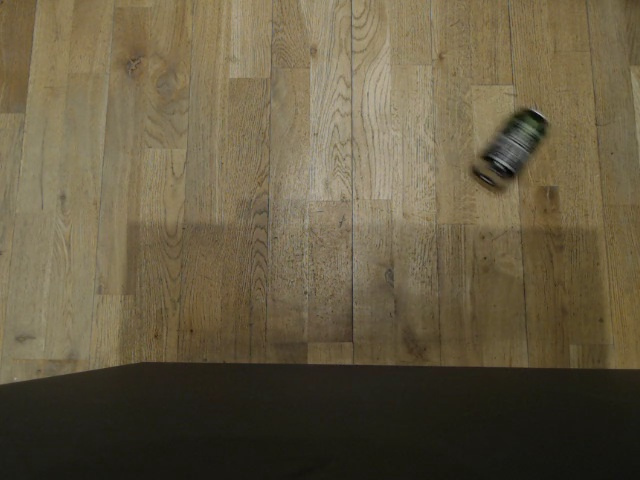beer: (468, 108, 549, 190)
